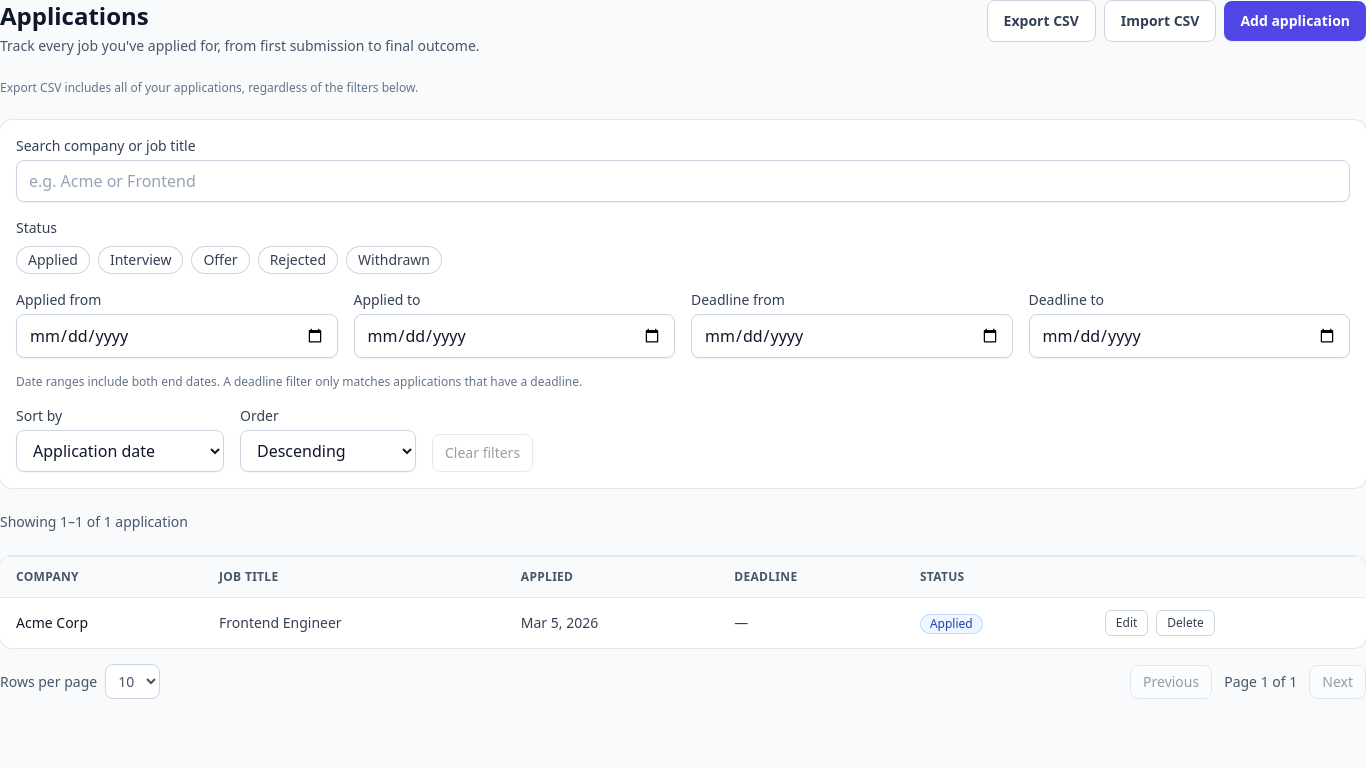
Test: create and edit › creates an application once, disables the form while saving, then closes, notifies and refreshes
Expected: the table is shown, [0,556,1365,648]
Click the button "Add application".
click(1295, 21)  # box [1224,1,1365,41]
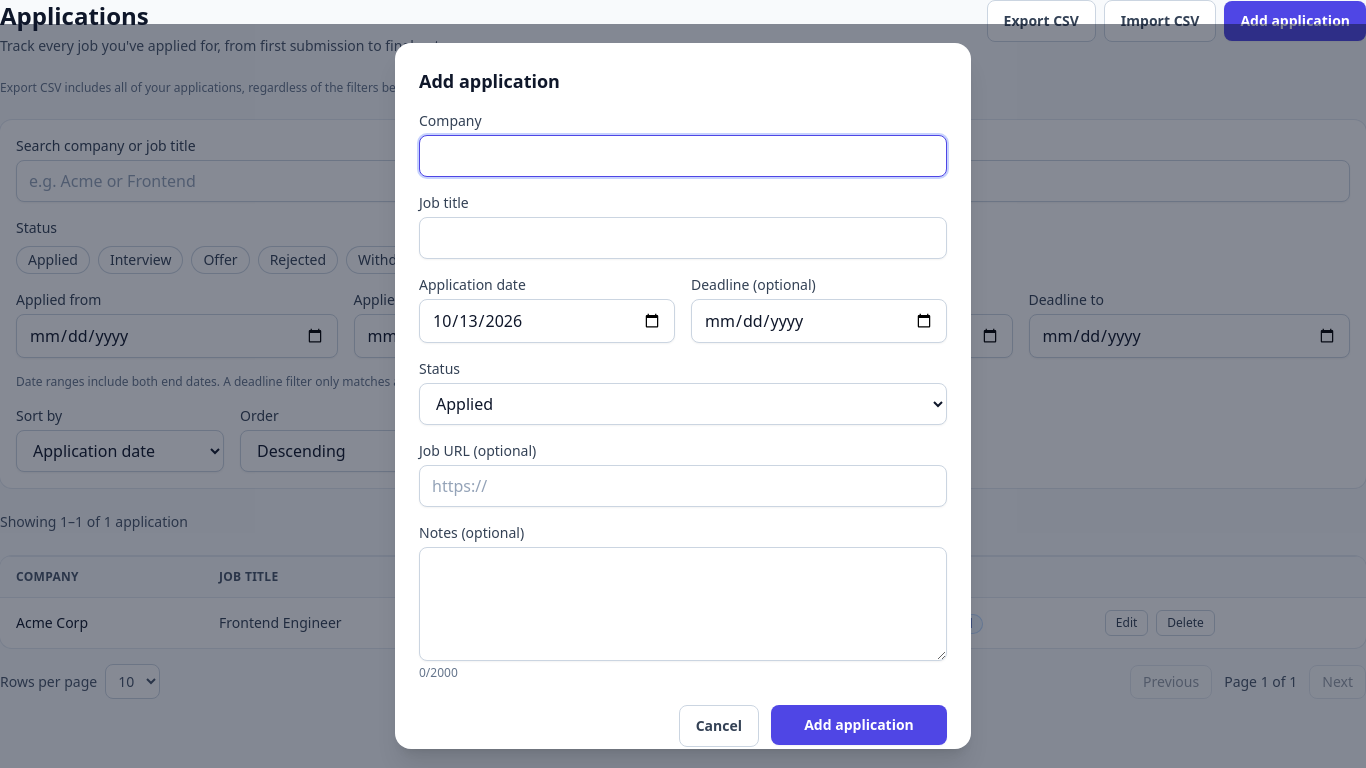
Type "  Initech  " into the field labelled "Company".
click(683, 156); type("  Initech  ")  # box [419,135,947,177]
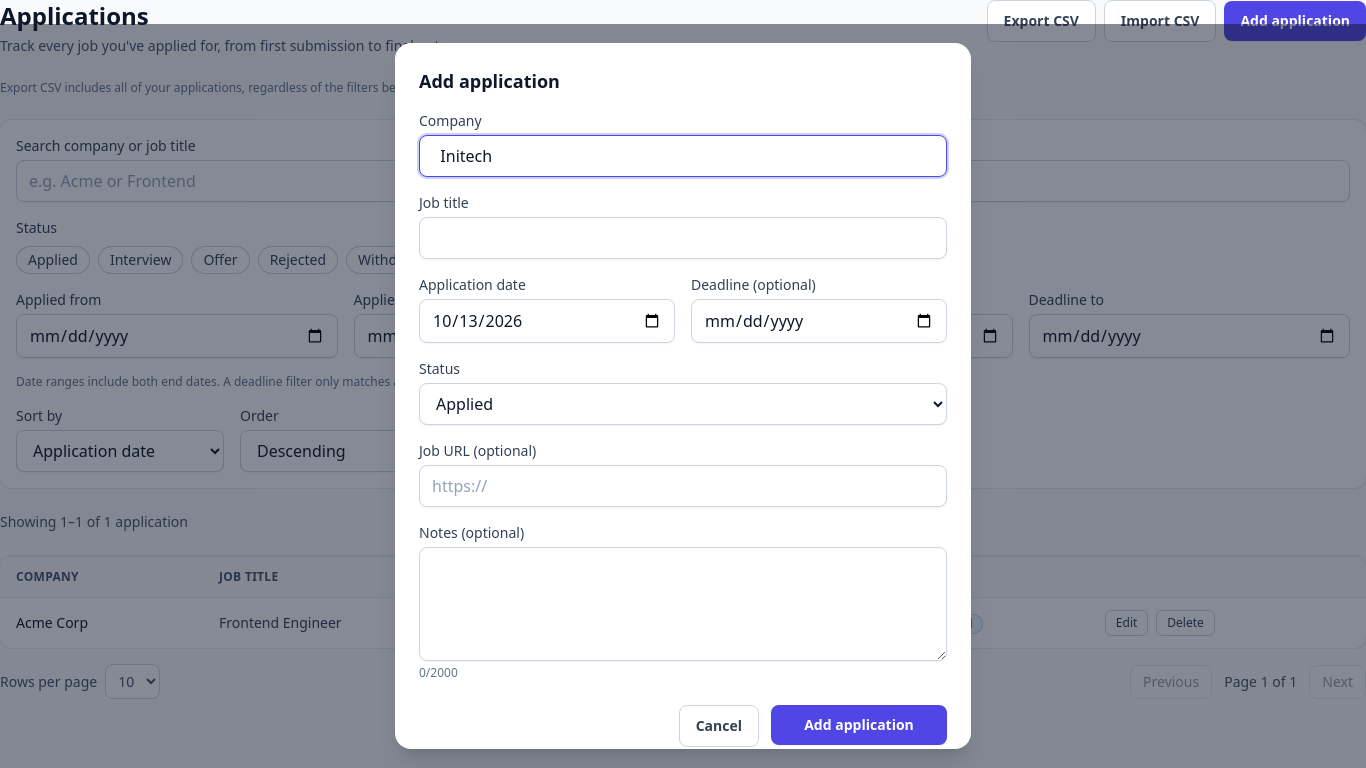
Type "Dev" into the field labelled "Job title".
click(683, 238); type("Dev")  # box [419,217,947,259]
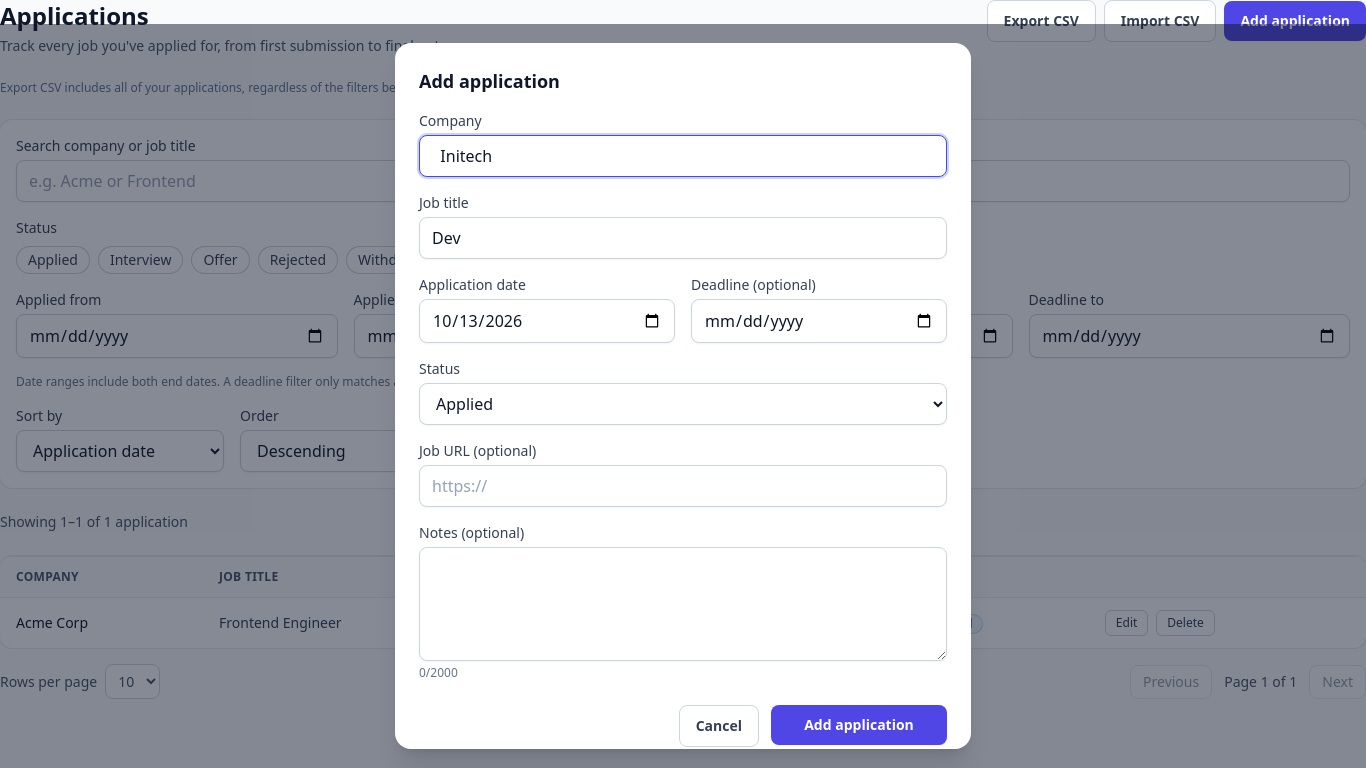
Click the button "Add application" below "Notes (optional)".
click(859, 725)  # box [771,705,947,745]
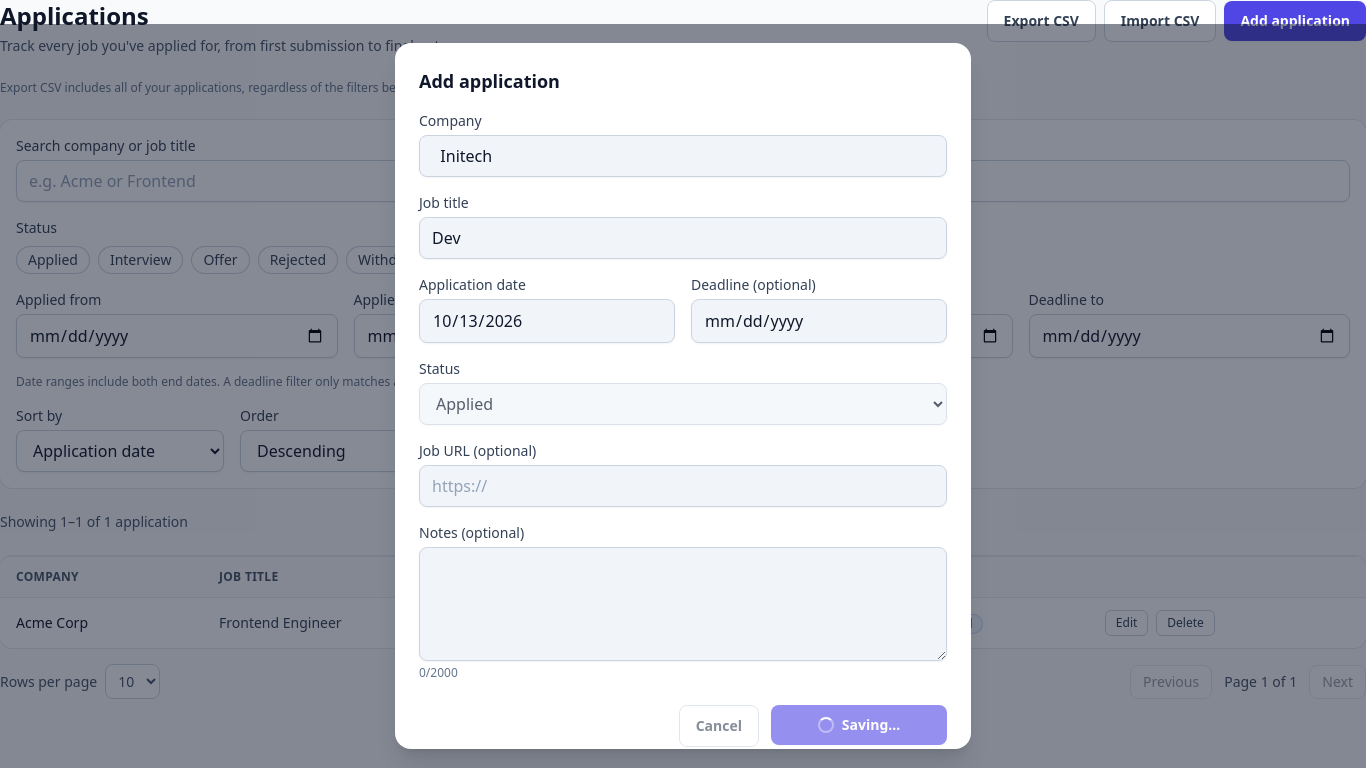
Now the button "Saving…" is disabled
Click the button "Saving…".
click(859, 725)  # box [771,705,947,745]
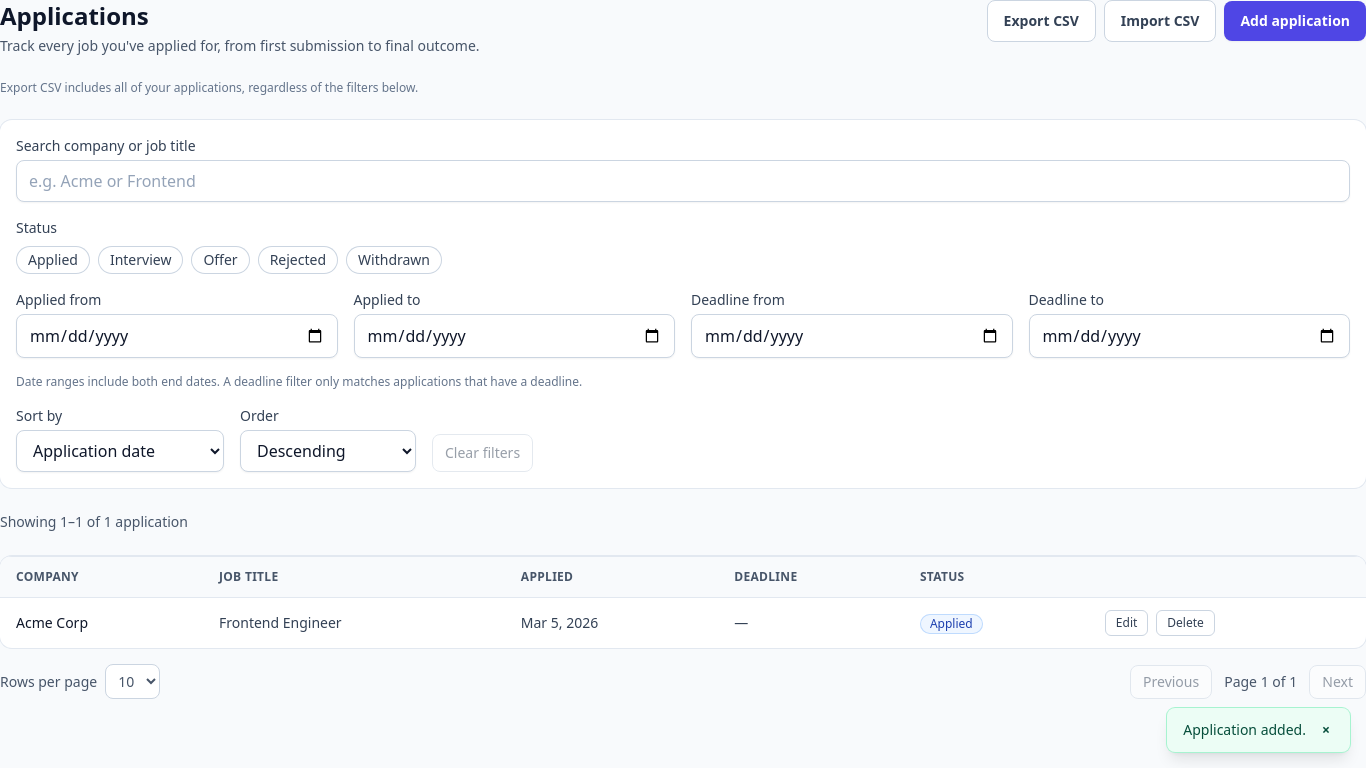
Now the dialog is gone
Now the text "Application added." is shown, box [1183,720,1306,740]
